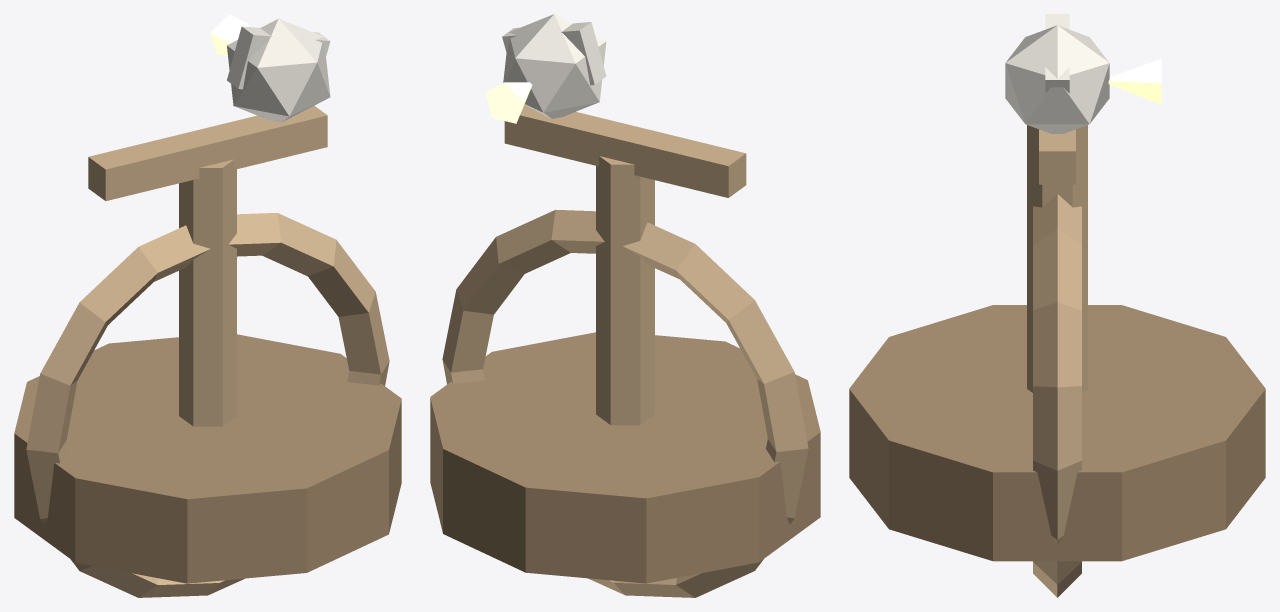
File: turret_roost.glb
The picture shows the model from 3 angles, left to right: view 1: azimuth 30°, elevation 25°; view 2: azimuth 150°, elevation 25°; view 3: azimuth 270°, elevation 25°; orthographic projection. The views are drawn at different scales.
Parts seen in each view (by area): view 1: turret_roost; view 2: turret_roost; view 3: turret_roost.
Part boxes in pixels (bbox=[...]): turret_roost: bbox=[14, 14, 401, 597]; turret_roost: bbox=[430, 14, 820, 597]; turret_roost: bbox=[849, 14, 1265, 597].
Size of the model in its own units: 0.72 by 1.06 by 0.68.
